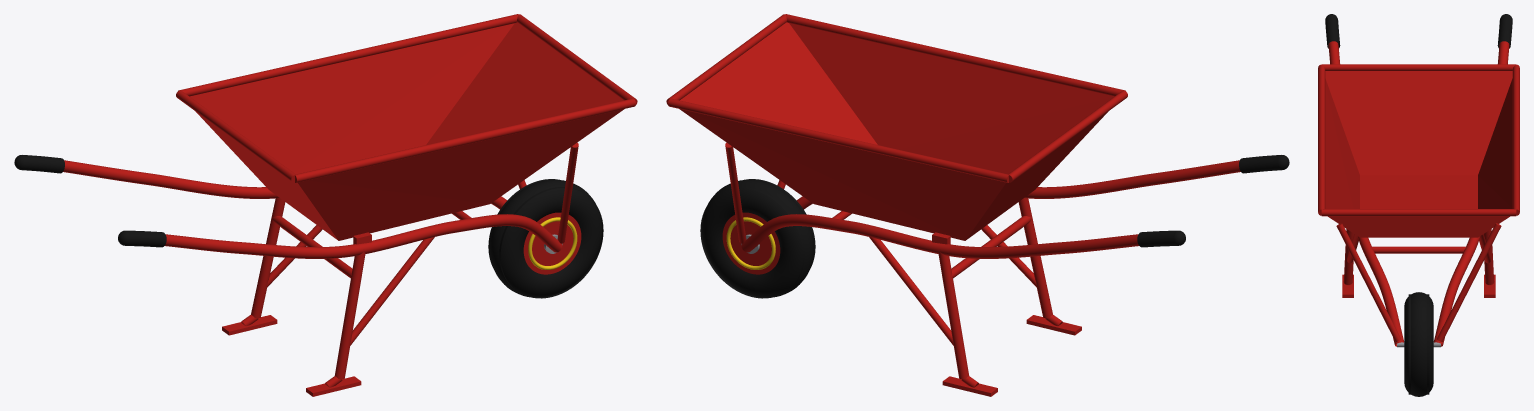
Rendered from angkong.obj.
The picture shows the model from 3 angles, left to right: view 1: azimuth 30°, elevation 25°; view 2: azimuth 150°, elevation 25°; view 3: azimuth 270°, elevation 25°; orthographic projection. The views are drawn at different scales.
Parts seen in each view (by area): view 1: tray, tire, frame_R, tray_rim_2, tray_rim_0, frame_L, rim, leg_R, tray_rim_3, tray_rim_1, leg_L, leg_stay_R (+6 smaller); view 2: tray, tire, frame_L, tray_rim_0, tray_rim_2, frame_R, rim, leg_L, tray_rim_3, tray_rim_1, leg_R, leg_stay_L (+6 smaller); view 3: tray, tire, tray_floor_rib, tray_rim_1, tray_rim_3, frame_L, frame_R, tray_rim_0, tray_rim_2, front_brace_L, front_brace_R, crossbar_front (+7 smaller).
Part boxes in pixels (box(x1,y1,x2,y2)): tray: box(190, 22, 624, 240); tire: box(489, 179, 601, 297); frame_R: box(165, 214, 562, 258); tray_rim_2: box(295, 98, 635, 182); tray_rim_0: box(178, 14, 518, 96); frame_L: box(63, 160, 506, 209); rim: box(523, 212, 581, 274); leg_R: box(334, 249, 365, 379); tray_rim_3: box(176, 90, 295, 182); tray_rim_1: box(517, 14, 637, 104); leg_L: box(251, 198, 285, 318); leg_stay_R: box(350, 237, 434, 345); tray: box(679, 22, 1113, 240); tire: box(702, 179, 814, 297); frame_L: box(741, 214, 1138, 258); tray_rim_0: box(668, 98, 1008, 182); tray_rim_2: box(785, 14, 1125, 96); frame_R: box(797, 160, 1240, 209); rim: box(722, 212, 780, 274); leg_L: box(938, 249, 969, 379); tray_rim_3: box(1008, 90, 1127, 182); tray_rim_1: box(666, 14, 786, 104); leg_R: box(1018, 198, 1052, 318); leg_stay_L: box(869, 237, 953, 345); tray: box(1325, 71, 1512, 237); tire: box(1404, 292, 1433, 396); tray_floor_rib: box(1386, 178, 1451, 208); tray_rim_1: box(1321, 209, 1516, 216); tray_rim_3: box(1322, 64, 1515, 70); frame_L: box(1433, 41, 1509, 346); frame_R: box(1328, 41, 1404, 346); tray_rim_0: box(1512, 64, 1519, 215); tray_rim_2: box(1318, 64, 1325, 215); front_brace_L: box(1437, 223, 1501, 341); front_brace_R: box(1336, 223, 1400, 341); crossbar_front: box(1372, 246, 1465, 253).
Bounding box in the file's own units: 1.76 × 0.752 × 0.684.
